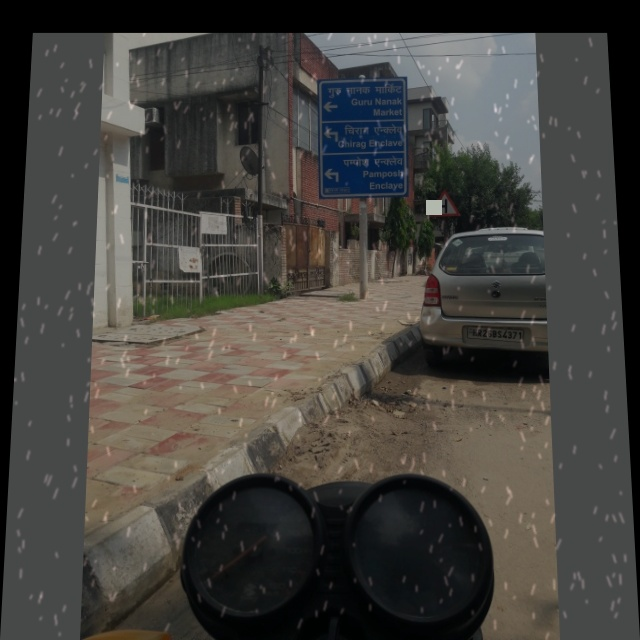Side_Road_Left: (426, 183, 463, 220)
